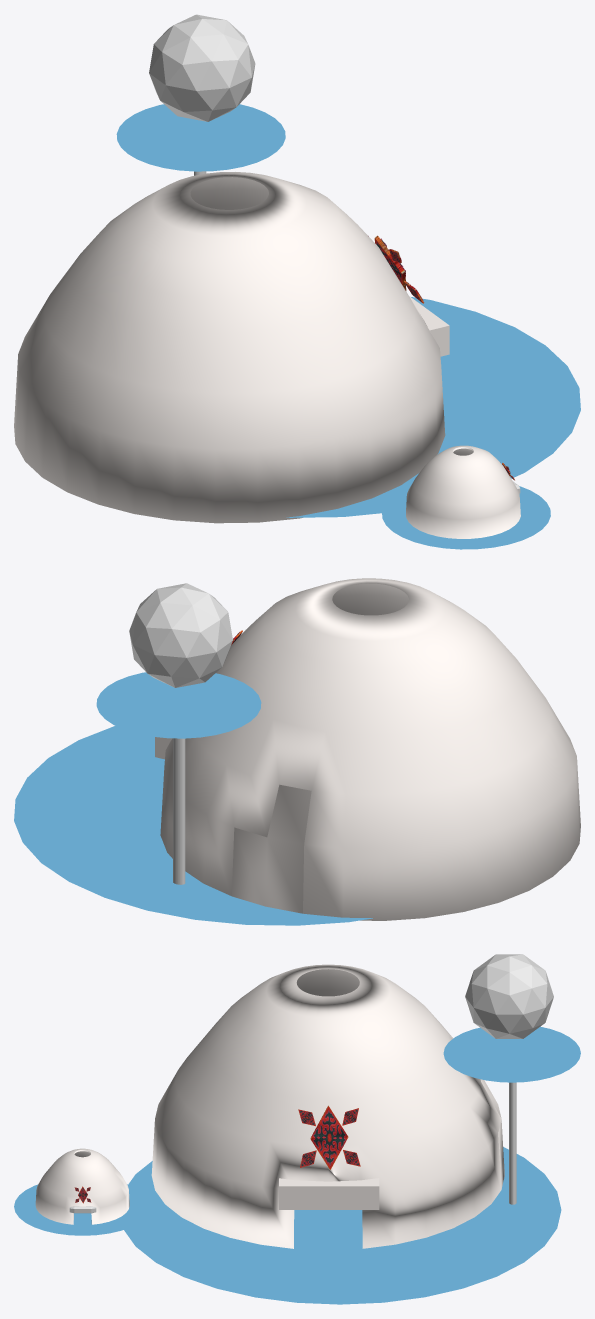
Rendered from urta2.fbx.
3 views of the same model, one above another, from view 1: azimuth 30°, elevation 25°; view 2: azimuth 150°, elevation 25°; view 3: azimuth 270°, elevation 25° (orthographic). The views are drawn at different scales.
Parts seen in each view (by area): view 1: Tumblr.004, Cone.001, Icosphere, Cone.002, Sphere, Cone; view 2: Tumblr.004, Cone.001, Icosphere, Cone.002, Cylinder; view 3: Tumblr.004, Cone.001, Icosphere, Cone.002, Sphere, Cone, Cylinder.
Boxes of the visible parts, <box> form: Tumblr.004: <box>14,172,449,523</box>; Cone.001: <box>286,297,580,517</box>; Icosphere: <box>149,14,255,121</box>; Cone.002: <box>116,104,285,171</box>; Sphere: <box>406,445,520,538</box>; Cone: <box>382,486,550,549</box>; Tumblr.004: <box>155,578,580,920</box>; Cone.001: <box>14,726,372,925</box>; Icosphere: <box>129,583,232,687</box>; Cone.002: <box>96,672,261,738</box>; Cylinder: <box>173,738,185,884</box>; Tumblr.004: <box>151,964,504,1248</box>; Cone.001: <box>124,1147,561,1304</box>; Icosphere: <box>465,954,553,1038</box>; Cone.002: <box>443,1026,580,1082</box>; Sphere: <box>35,1148,129,1224</box>; Cone: <box>14,1184,151,1235</box>; Cylinder: <box>509,1082,516,1204</box>.
Bounding box in the file's own units: 3600 × 2616 × 4238.
